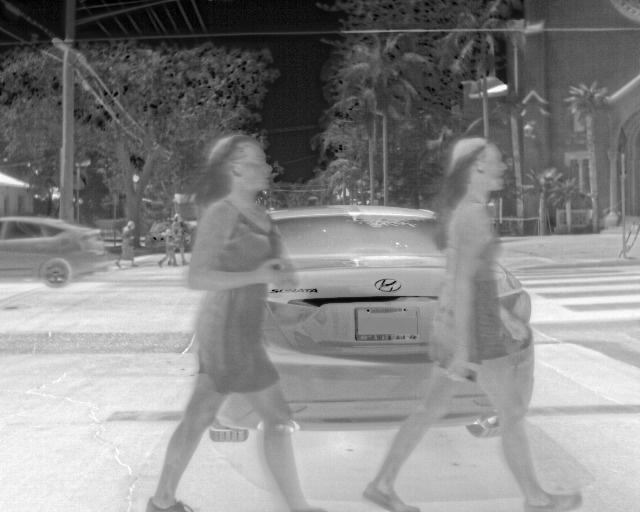bicycle: (259, 204, 437, 431), (0, 213, 114, 288), (496, 257, 541, 412)
empty: (363, 138, 583, 509), (143, 132, 321, 511), (157, 211, 190, 270), (115, 220, 141, 267)
